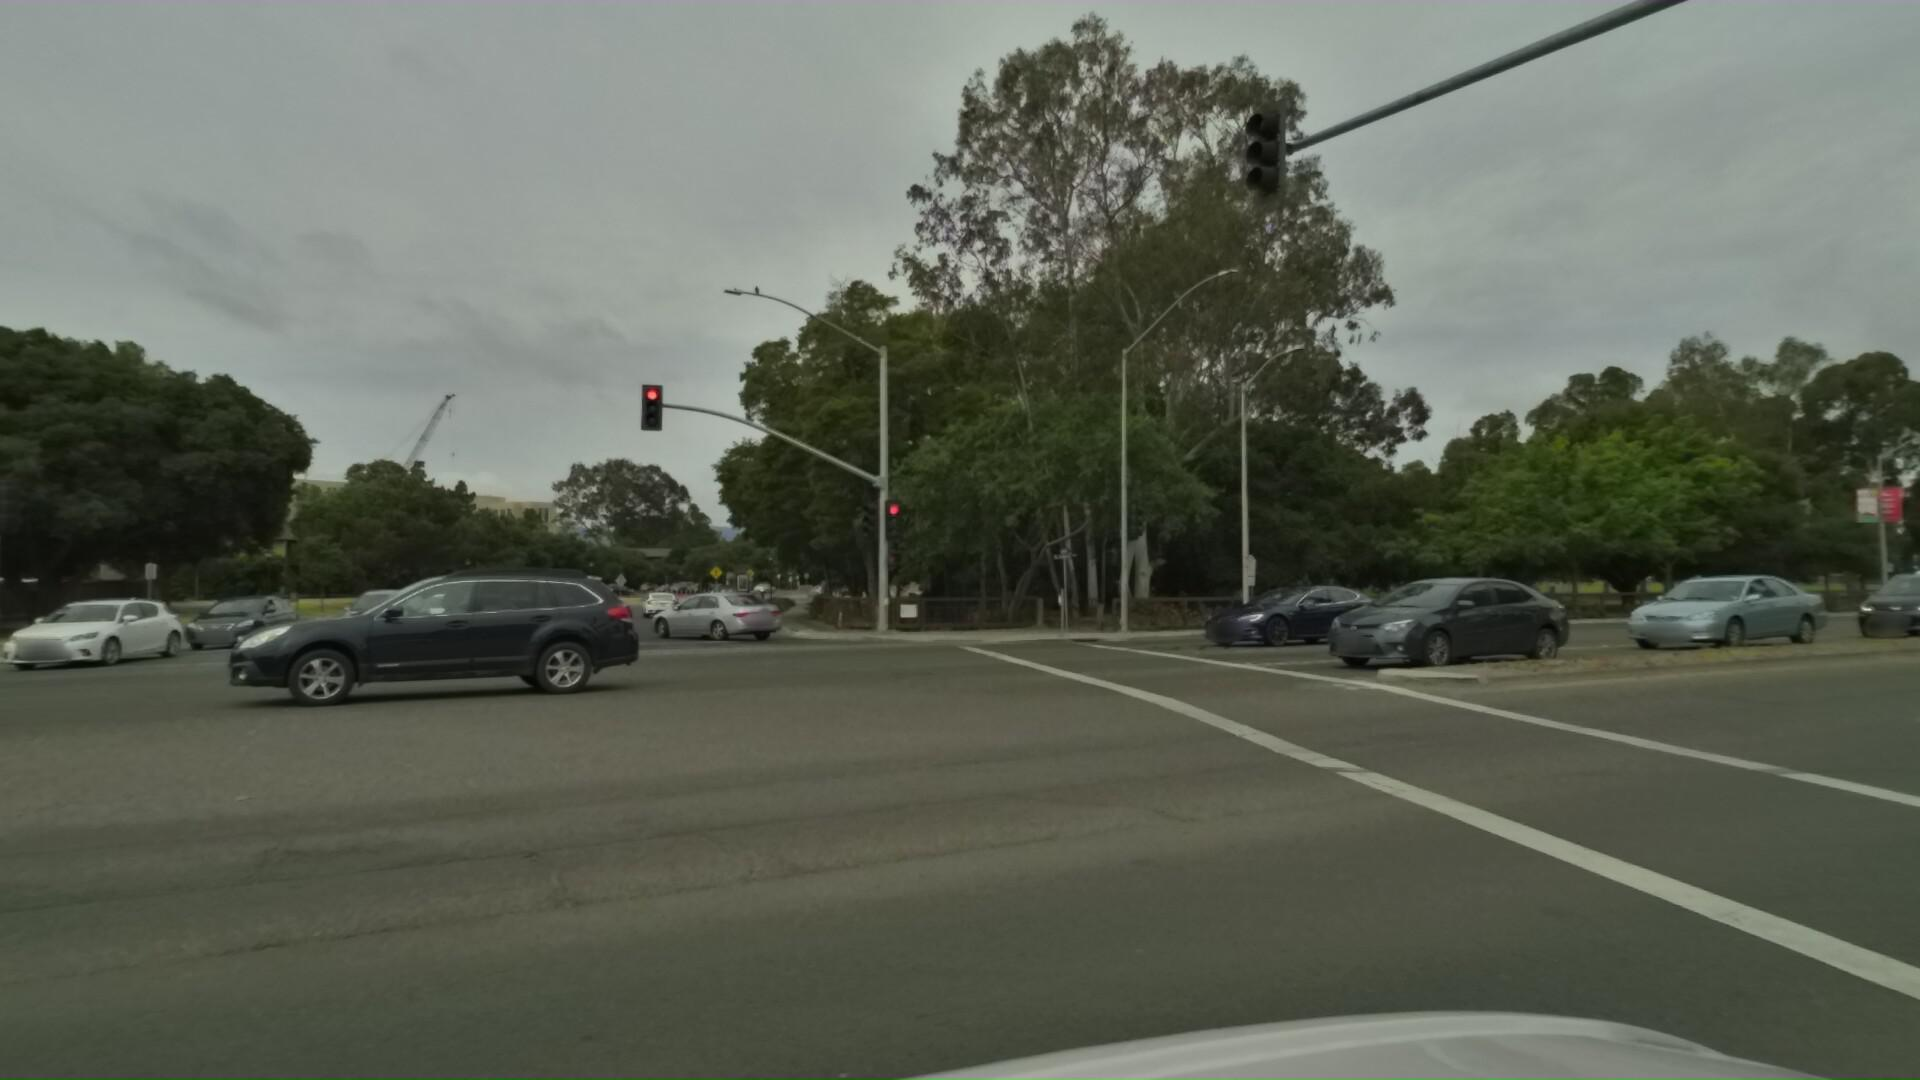car: (98, 553, 551, 720), (1273, 567, 1568, 680), (1584, 556, 1828, 659), (1145, 584, 1353, 651), (291, 582, 422, 649), (146, 589, 290, 649), (615, 585, 764, 642), (1829, 562, 1920, 636), (378, 583, 477, 644), (427, 585, 512, 632), (465, 578, 543, 625), (632, 588, 669, 621)
truck: (1862, 524, 1920, 626)
